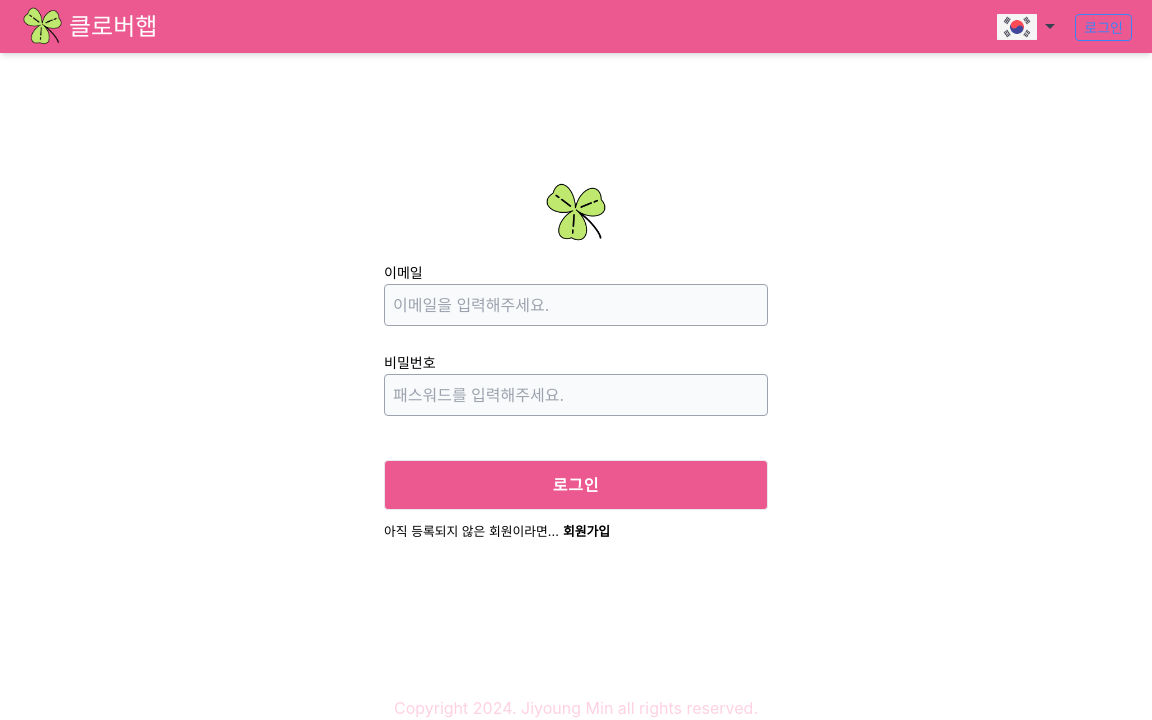
로그인 페이지 › 폼 에러 발생, 일본어 버전
Click the element with id "localeSelect": (1026, 27) [997,7,1055,47]
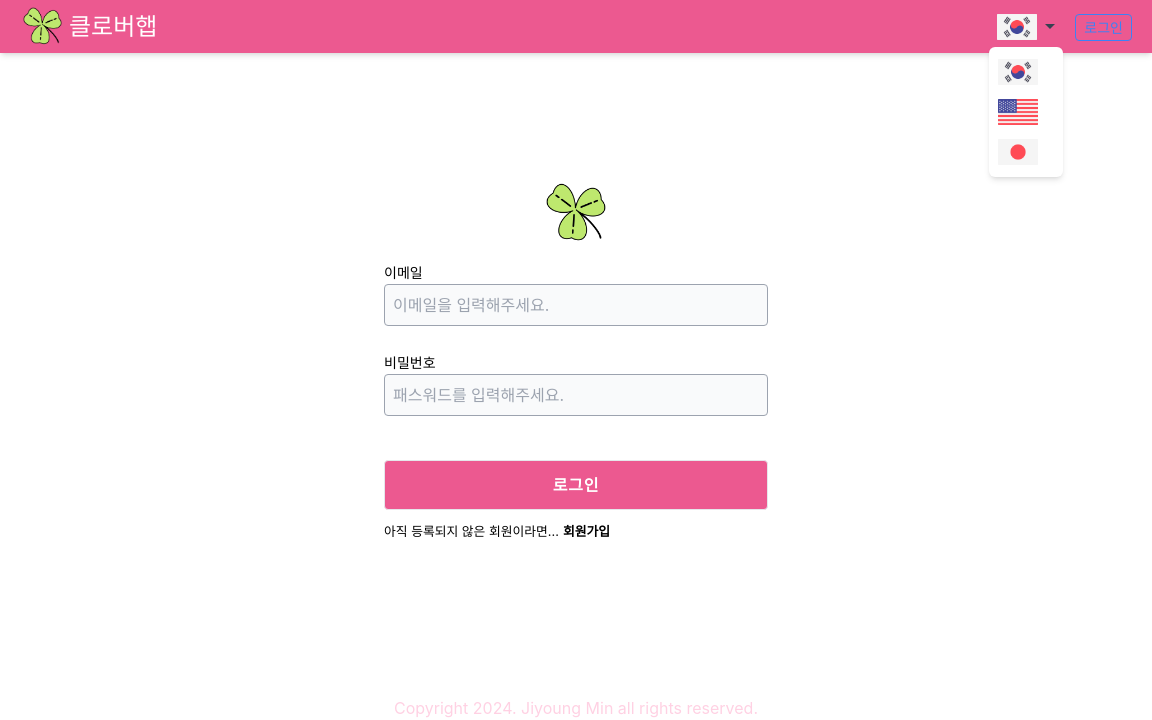
Click the 3rd list item: (1026, 152) [994,132,1058,172]
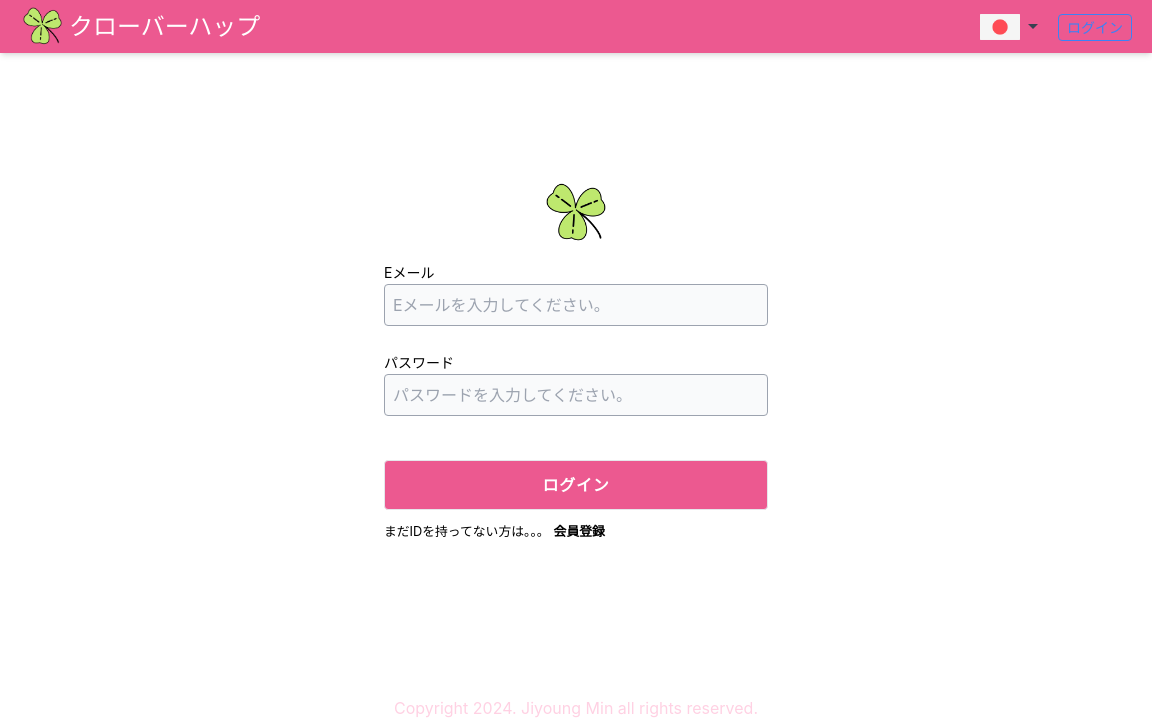
In the field with id "login-emailInput": (576, 305) [384,284,768,326], type "aaa"
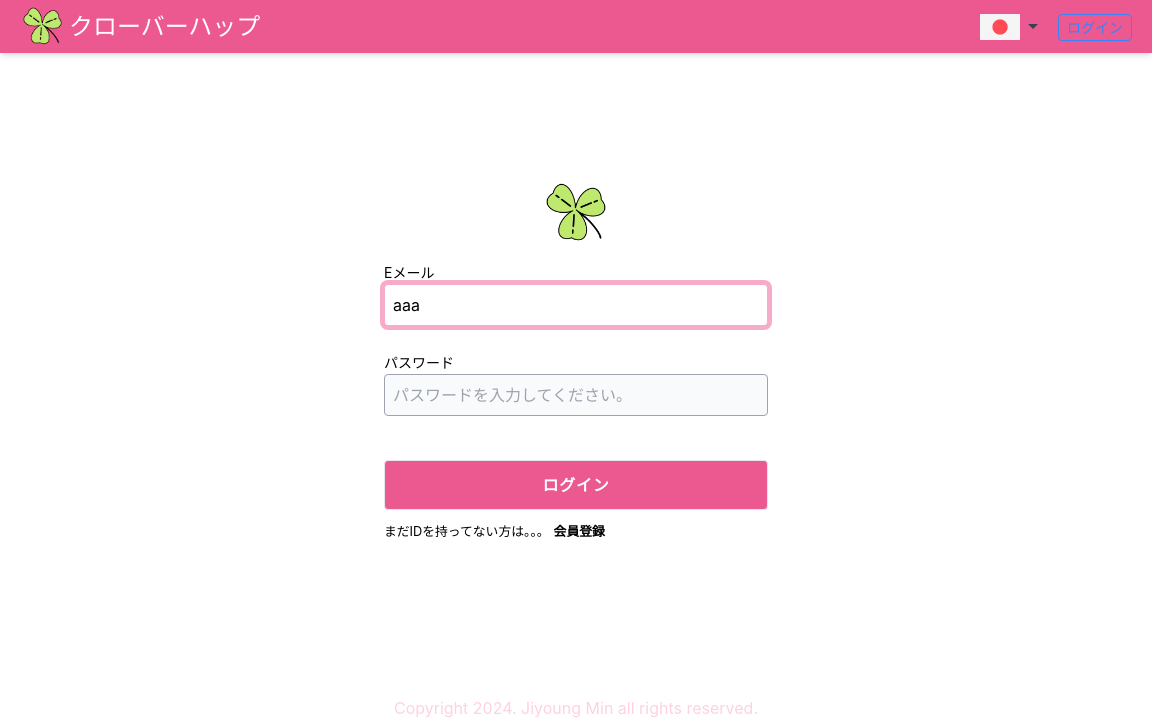
password - 최소 6글자 입력 규칙 위반
In the password field with id "login-passwordInput": (576, 395) [384,374,768,416], type "aaa"
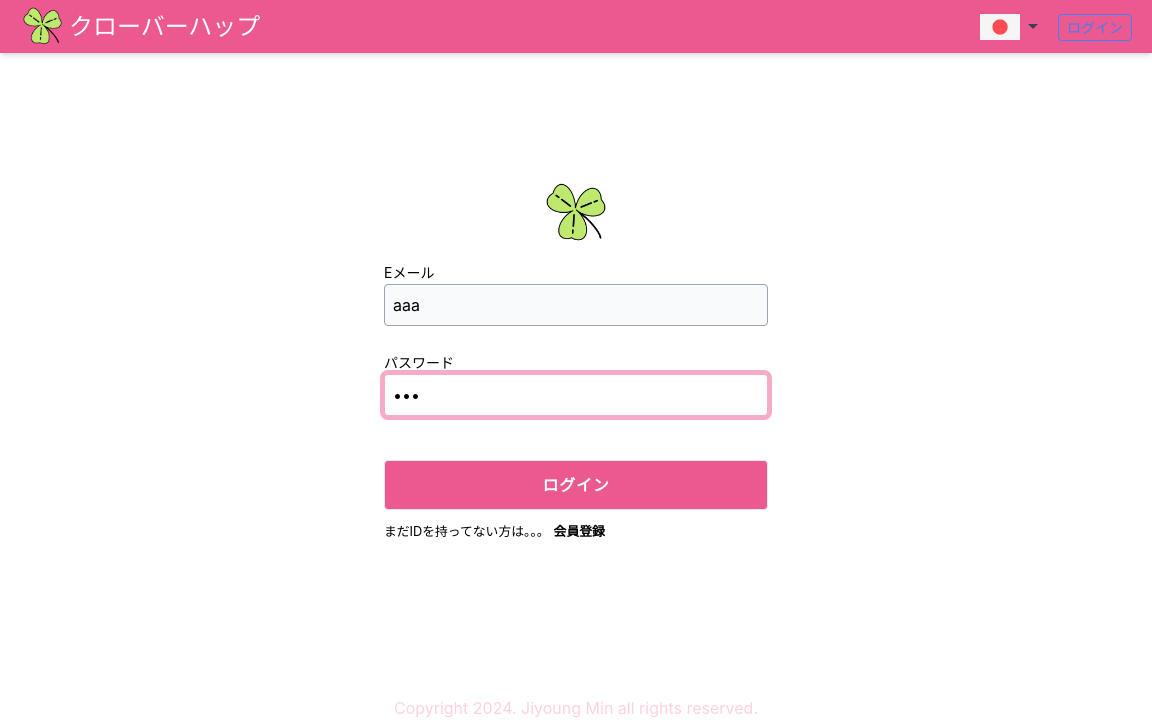
Click the button with id "loginButton": (576, 485) [384,460,768,510]
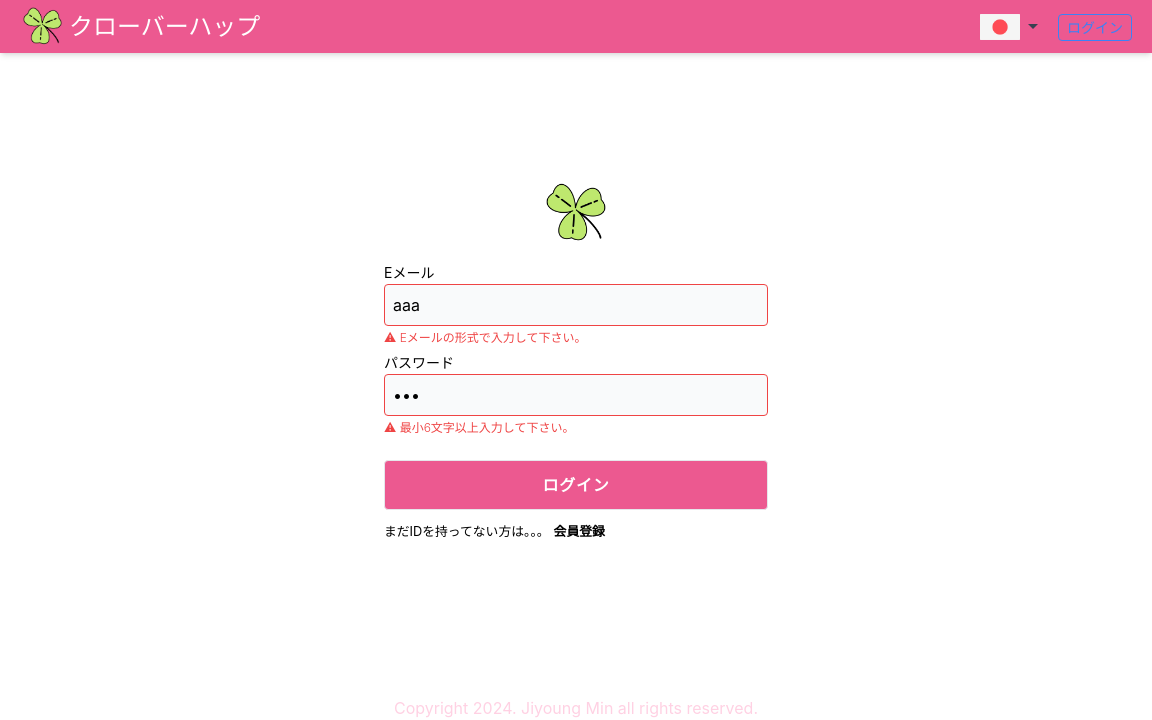
Check: the text "⚠ Eメールの形式で入力して下さい。" is shown, box [384,330,586,346]
Check: the text "⚠ 最小6文字以上入力して下さい。" is shown, box [384,420,574,436]
